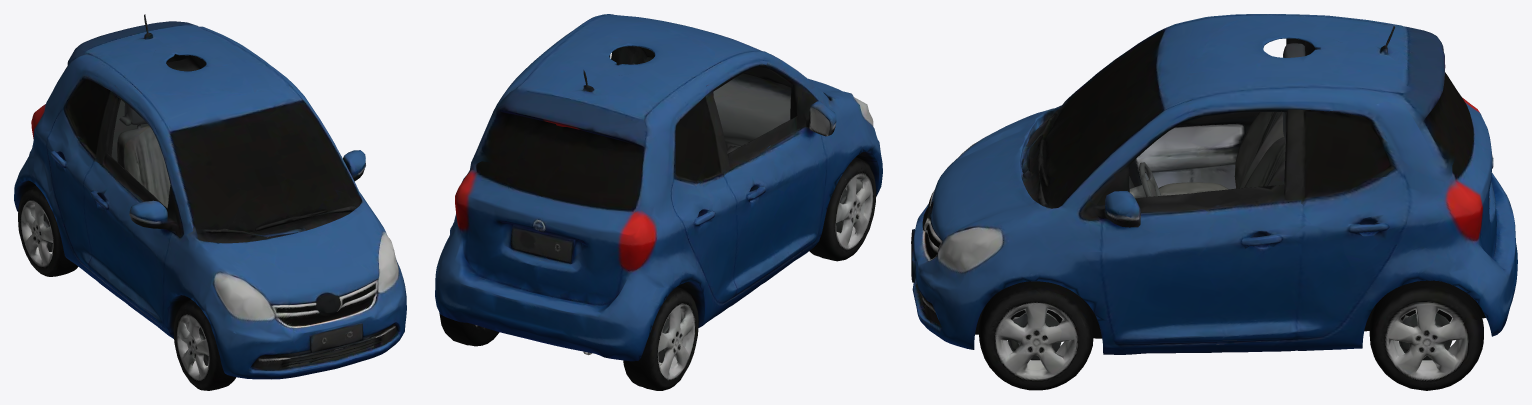
Rendered from car.glb.
3 renders of one model, left to right at view 1: azimuth 30°, elevation 25°; view 2: azimuth 150°, elevation 25°; view 3: azimuth 270°, elevation 25°, orthographic. The views are drawn at different scales.
Parts seen in each view (by area): view 1: tripo_node_0658a8e6-2329-438e-8b2e-4242817a69b3; view 2: tripo_node_0658a8e6-2329-438e-8b2e-4242817a69b3; view 3: tripo_node_0658a8e6-2329-438e-8b2e-4242817a69b3.
Boxes of the visible parts, bbox=[...] form: tripo_node_0658a8e6-2329-438e-8b2e-4242817a69b3: bbox=[14, 14, 406, 390]; tripo_node_0658a8e6-2329-438e-8b2e-4242817a69b3: bbox=[435, 14, 882, 390]; tripo_node_0658a8e6-2329-438e-8b2e-4242817a69b3: bbox=[911, 14, 1517, 390].
Size of the model in its own units: 1.48 by 1.5 by 2.65.
Materials: 1 (1 with a texture image).
